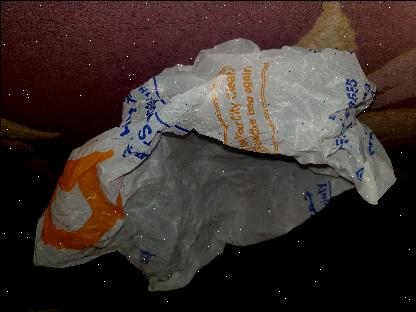Others: (32, 38, 395, 290)
